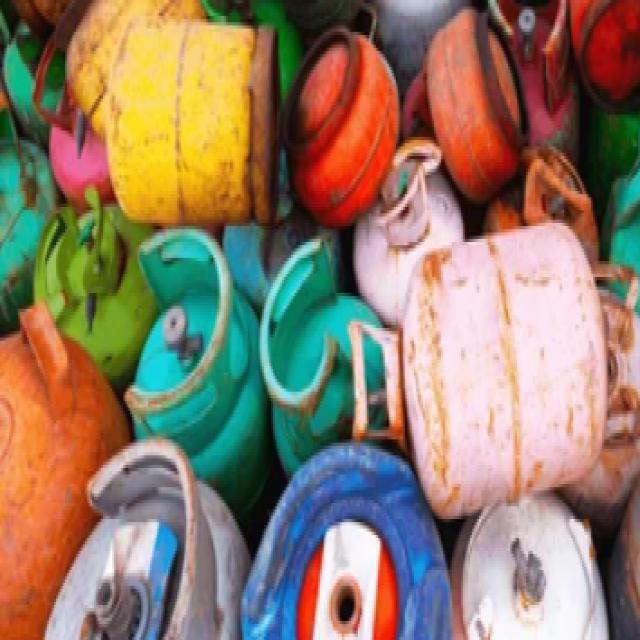cylinder: (347, 219, 607, 517), (124, 225, 276, 530), (107, 22, 281, 224)
